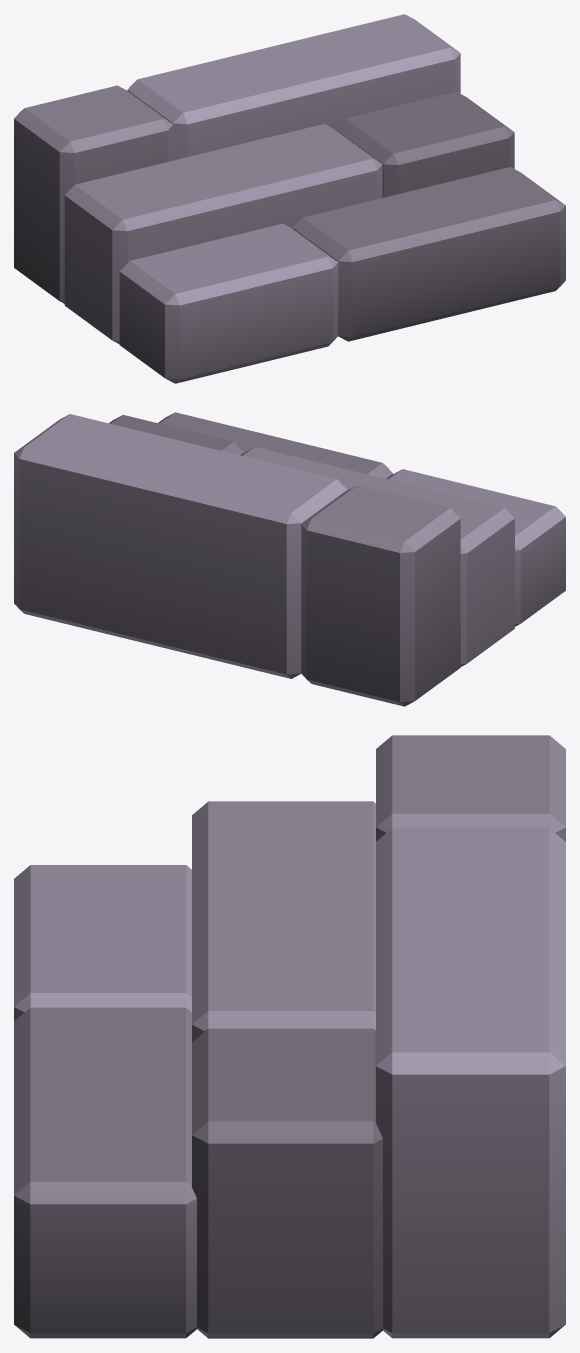
Rendered from steps.glb.
3 renders of one model, top to bottom at view 1: azimuth 30°, elevation 25°; view 2: azimuth 150°, elevation 25°; view 3: azimuth 270°, elevation 25°, orthographic. The views are drawn at different scales.
Parts seen in each view (by area): view 1: steps; view 2: steps; view 3: steps.
Part boxes in pixels (box(x1,y1,x2,y2)): steps: box(14, 14, 565, 383); steps: box(14, 412, 565, 706); steps: box(14, 735, 565, 1338).
Size of the model in its own units: 1.95 by 0.7729 by 1.35.
Materials: 1 (1 with a texture image).
